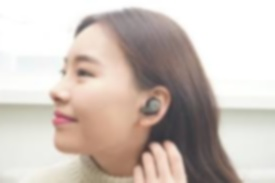earphone: (137, 86, 171, 126)
